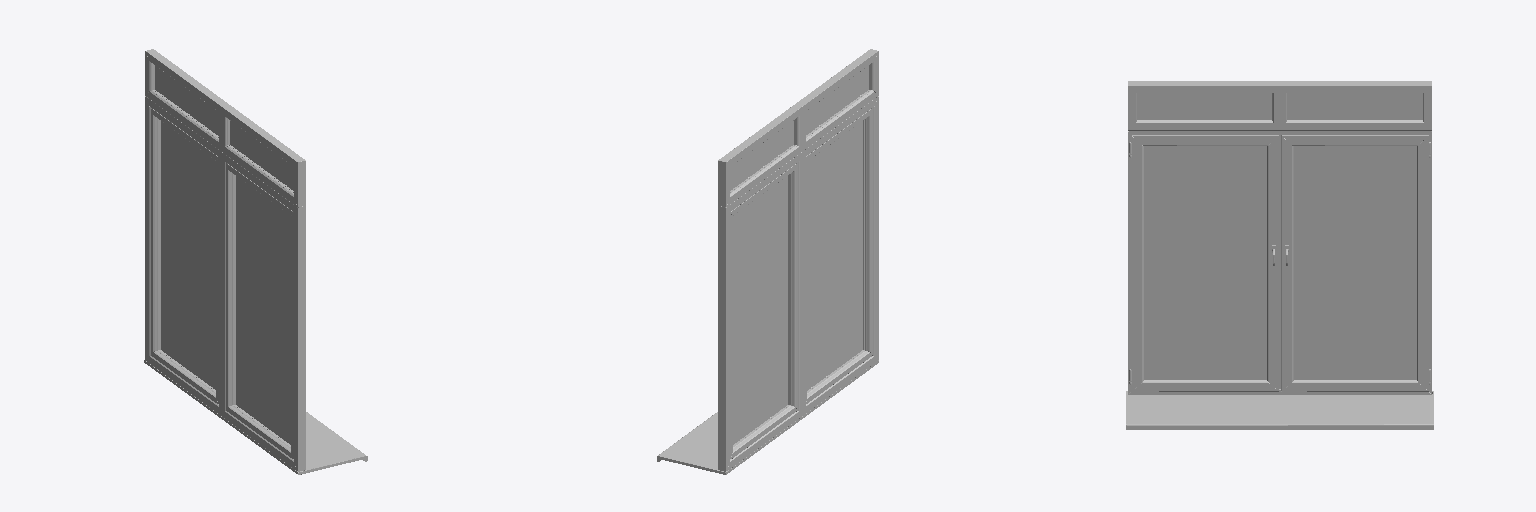
Rendered from Window plastic N030718.obj.
The picture shows the model from 3 angles: view 1: azimuth 30°, elevation 25°; view 2: azimuth 150°, elevation 25°; view 3: azimuth 270°, elevation 25°; orthographic projection.
Visible parts, largest first — view 1: _____; view 2: _____; view 3: _____.
Boxes of the visible parts, <box> form: _____: <box>144,49,367,474</box>; _____: <box>657,49,878,474</box>; _____: <box>1126,81,1433,429</box>.
Size of the model in its own units: 4974 by 21585 by 19065.